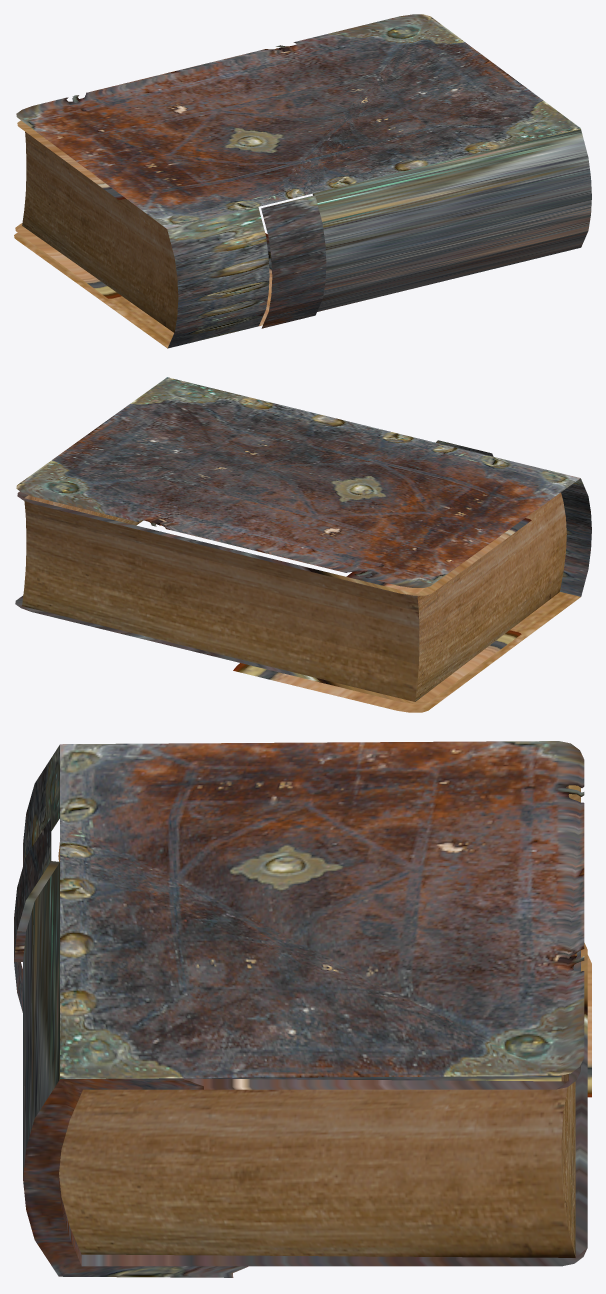
The model's file is book.fbx.
The picture shows the model from 3 angles, top to bottom: view 1: azimuth 30°, elevation 25°; view 2: azimuth 150°, elevation 25°; view 3: azimuth 270°, elevation 25°; orthographic projection. The views are drawn at different scales.
Parts seen in each view (by area): view 1: book; view 2: book; view 3: book.
Boxes of the visible parts, bbox=[...] form: book: bbox=[14, 14, 591, 348]; book: bbox=[15, 377, 591, 712]; book: bbox=[14, 741, 591, 1277].
Bounding box in the file's own units: 200 × 56.87 × 146.
Materials: 1 (1 with a texture image).
